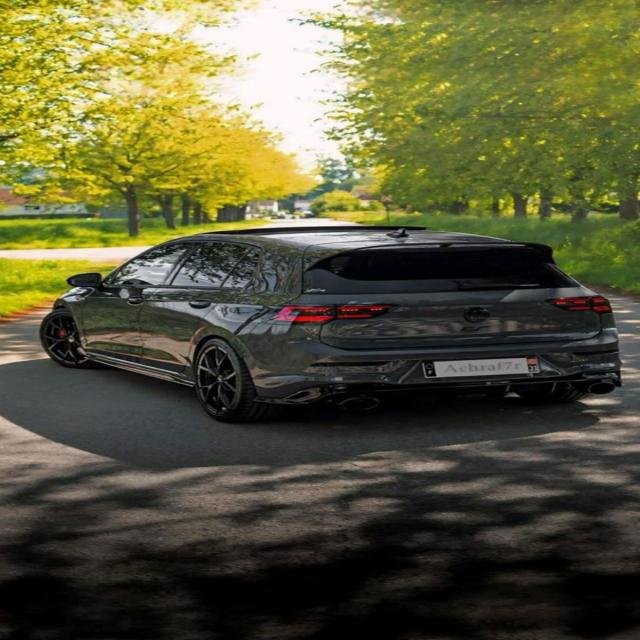Placas: (423, 354, 557, 383)
